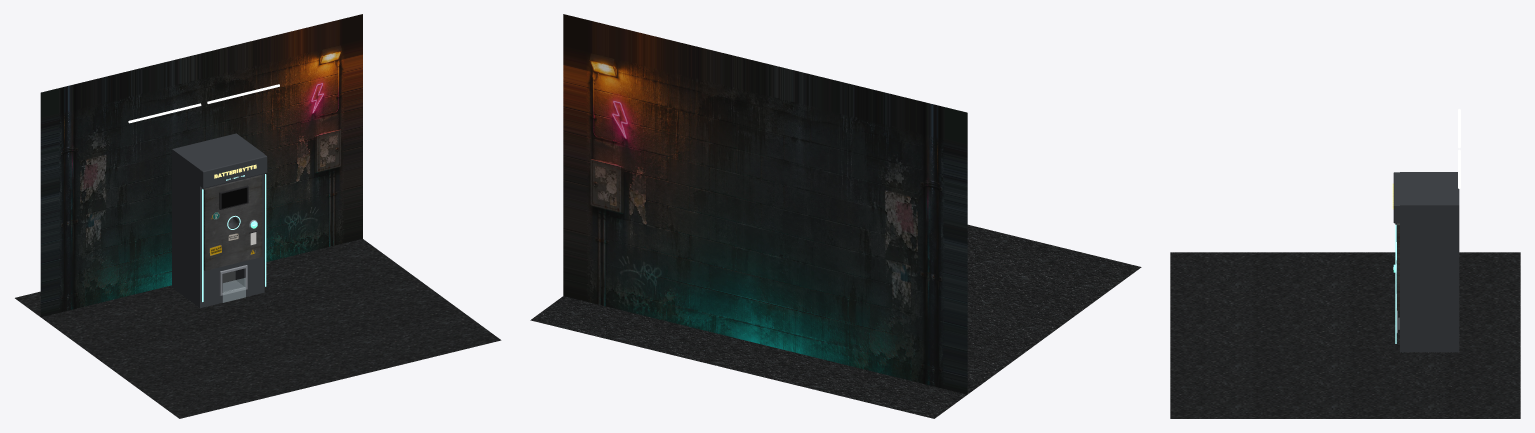
File: machine.glb
3 renders of one model, left to right at view 1: azimuth 30°, elevation 25°; view 2: azimuth 150°, elevation 25°; view 3: azimuth 270°, elevation 25°, orthographic. The views are drawn at different scales.
Visible parts, largest first — view 1: Wall, Floor, Body, Front, SignBox, HatchFlap; view 2: Wall, Floor; view 3: Floor, Body, SignBox.
Boxes of the visible parts, box(x1,y1,x2,y2) form: Wall: box(40, 14, 362, 316); Floor: box(15, 239, 501, 418); Body: box(172, 133, 264, 308); Front: box(203, 175, 262, 270); SignBox: box(200, 153, 267, 188); HatchFlap: box(222, 278, 245, 302); Wall: box(563, 14, 967, 394); Floor: box(530, 224, 1141, 418); Floor: box(1170, 252, 1520, 418); Body: box(1400, 172, 1459, 352); SignBox: box(1393, 172, 1401, 223).
Size of the model in its own units: 4.5 by 3 by 4.
20 materials, 7 textured.
